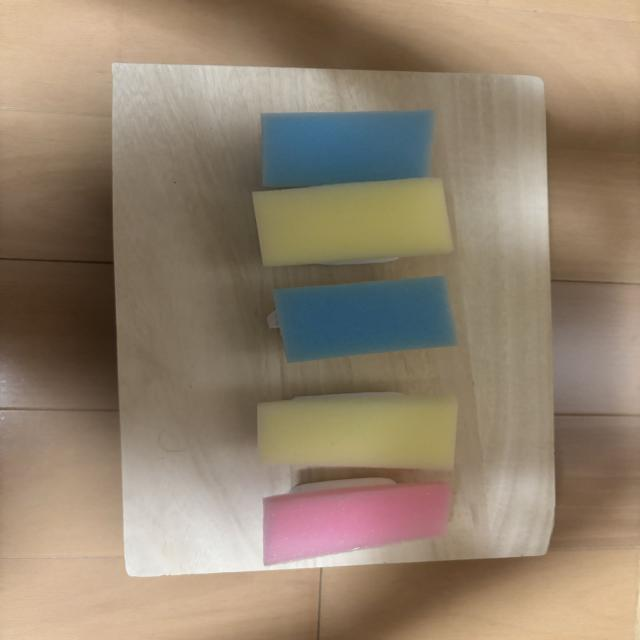ika: (273, 276, 457, 363), (261, 110, 435, 188)
tai: (263, 482, 451, 566)
tamago: (253, 177, 453, 266), (257, 392, 458, 471)
